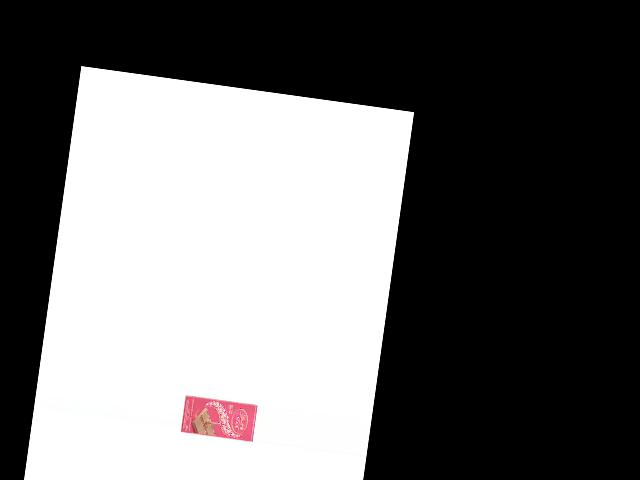chocolate: (180, 393, 257, 445)
